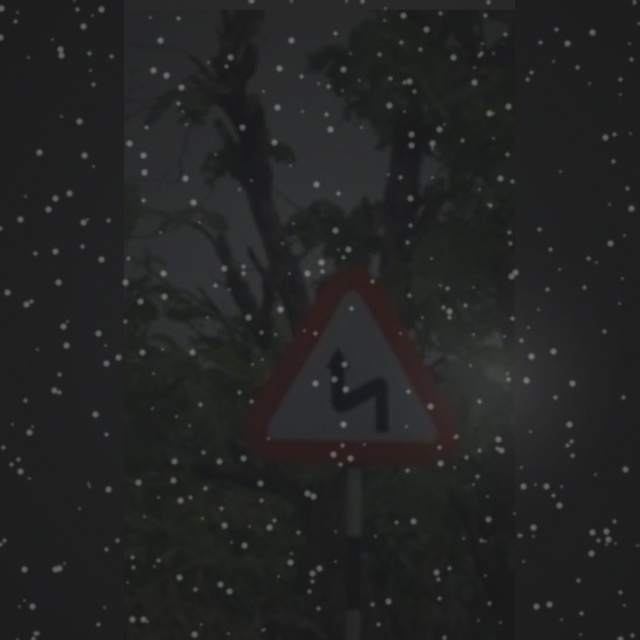Left_Reverse_Bend: (245, 272, 463, 466)
